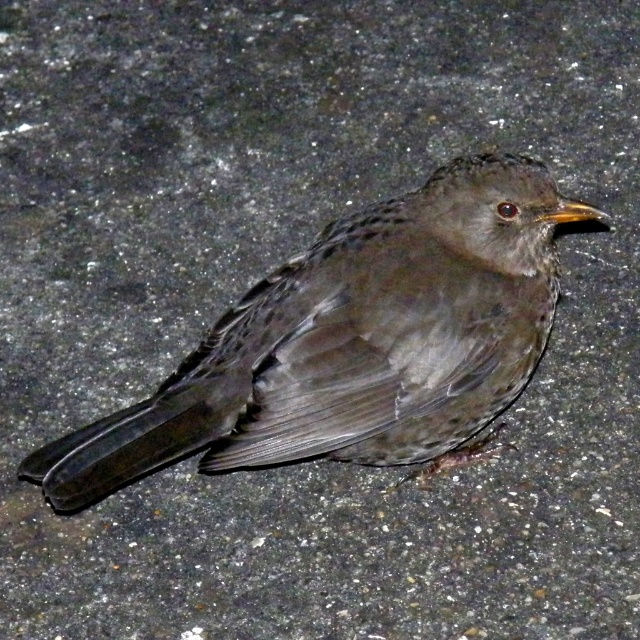Sparrow: (16, 151, 614, 516)
